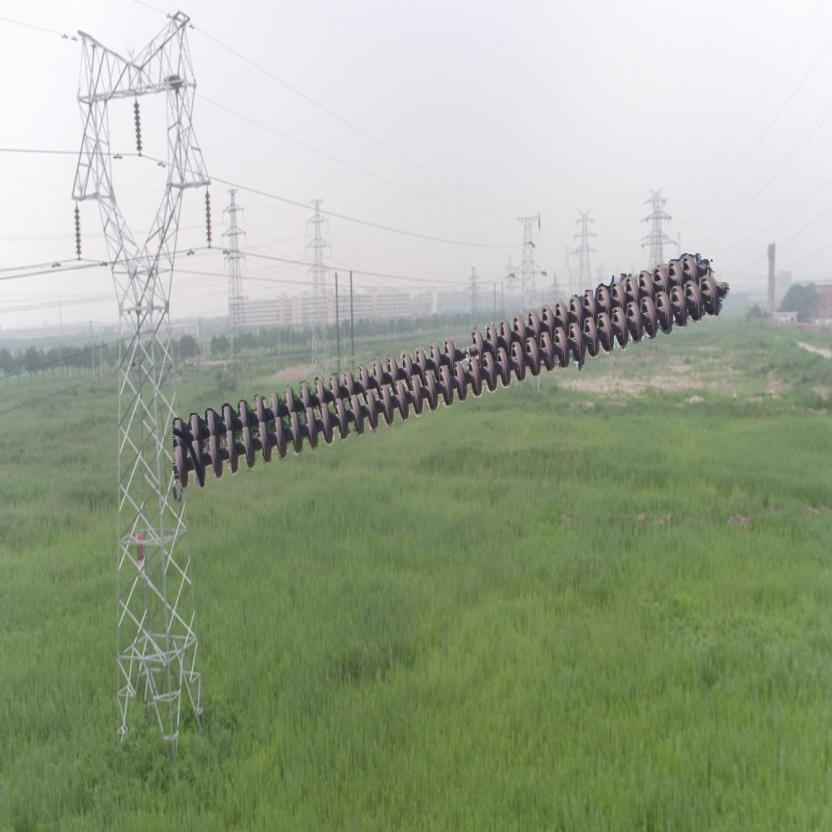defect: (439, 323, 489, 365)
